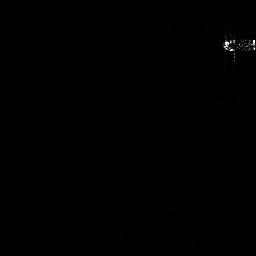ship: (219, 34, 256, 54)
